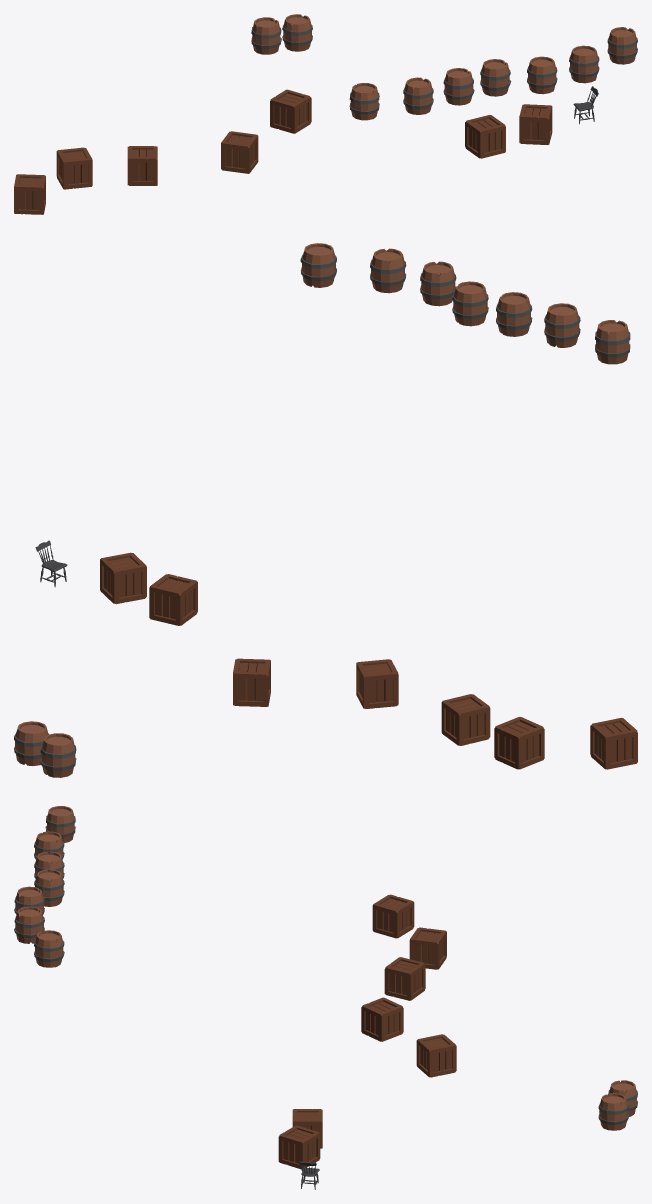
Rendered from yenktlr.fbx.
3 renders of one model, top to bottom at view 1: azimuth 30°, elevation 25°; view 2: azimuth 150°, elevation 25°; view 3: azimuth 270°, elevation 25°, orthographic. The views are drawn at different scales.
Parts seen in each view (by area): view 1: Crate.007, Crate.002, Crate.005, Crate.006, Crate.001, Crate.008, Crate.009, Barrel.007, Barrel.002, Barrel.004, Barrel.001, Barrel.009 (+5 smaller); view 2: Crate.006, Crate.009, Crate.002, Crate.008, Crate.001, Crate.005, Crate.007, Barrel.004, Barrel.007, Barrel.005, Barrel.010, Barrel.002 (+4 smaller); view 3: Crate.005, Crate.008, Crate.009, Crate.001, Crate.007, Crate.006, Barrel.009, Barrel.005, Barrel.008, Barrel.007, Barrel.003, Crate.002 (+4 smaller).
Part boxes in pixels (x1,y1,x2,y2): Crate.007: (270, 89, 311, 133); Crate.002: (465, 115, 505, 158); Crate.005: (221, 131, 258, 173); Crate.006: (56, 147, 92, 189); Crate.001: (519, 104, 552, 144); Crate.008: (14, 174, 45, 214); Crate.009: (127, 146, 157, 185); Barrel.007: (480, 59, 511, 96); Barrel.002: (443, 68, 474, 105); Barrel.004: (403, 77, 433, 114); Barrel.001: (527, 56, 557, 94); Barrel.009: (282, 14, 312, 51); Crate.006: (494, 717, 544, 769); Crate.009: (441, 694, 490, 745); Crate.002: (149, 574, 197, 625); Crate.008: (590, 717, 637, 769); Crate.001: (100, 552, 146, 604); Crate.005: (356, 659, 398, 708); Crate.007: (233, 658, 270, 706); Barrel.004: (544, 303, 580, 347); Barrel.007: (452, 281, 488, 326); Barrel.005: (300, 243, 336, 287); Barrel.010: (40, 733, 76, 777); Barrel.002: (496, 292, 532, 336); Crate.005: (361, 997, 403, 1041); Crate.008: (372, 894, 414, 938); Crate.009: (384, 957, 425, 1000); Crate.001: (278, 1125, 320, 1169); Crate.007: (416, 1034, 456, 1077); Crate.006: (409, 927, 446, 969); Barrel.009: (598, 1093, 629, 1130); Barrel.005: (34, 930, 64, 967); Barrel.008: (14, 906, 44, 943); Barrel.007: (34, 869, 64, 906); Barrel.003: (45, 806, 75, 842); Crate.002: (292, 1109, 322, 1148).
Size of the model in its own units: 2510 by 940 by 2506.
